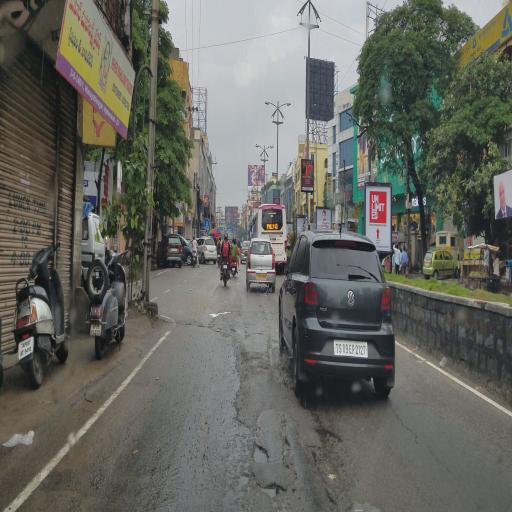street_light_0: (258, 93, 279, 113), (278, 93, 298, 113), (262, 136, 275, 156), (250, 140, 263, 160)
